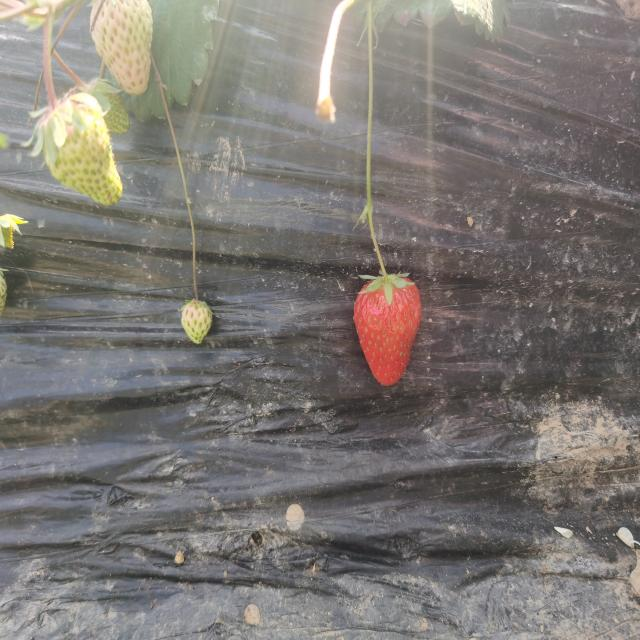stem: (373, 239, 390, 284)
strawberry: (353, 275, 422, 386)
